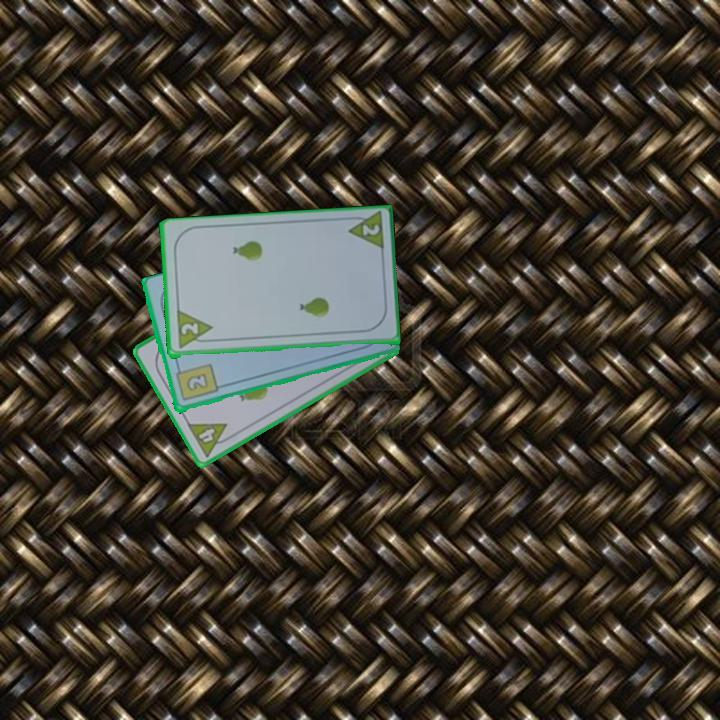2b: (172, 361, 220, 404)
2p: (173, 308, 215, 352), (358, 221, 382, 239)
4p: (183, 420, 236, 460)
